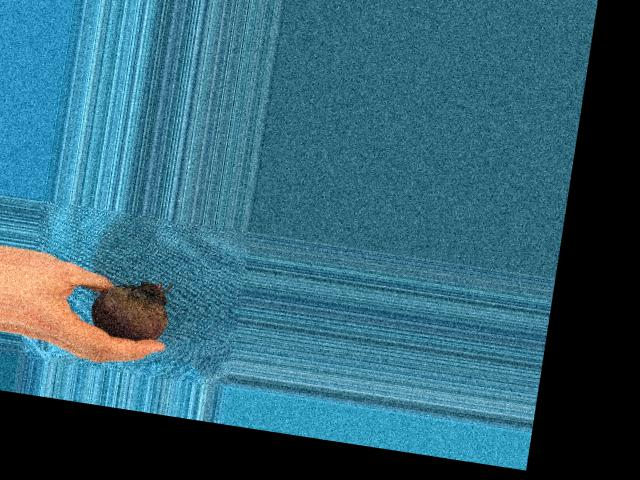beet: (89, 272, 173, 344)
